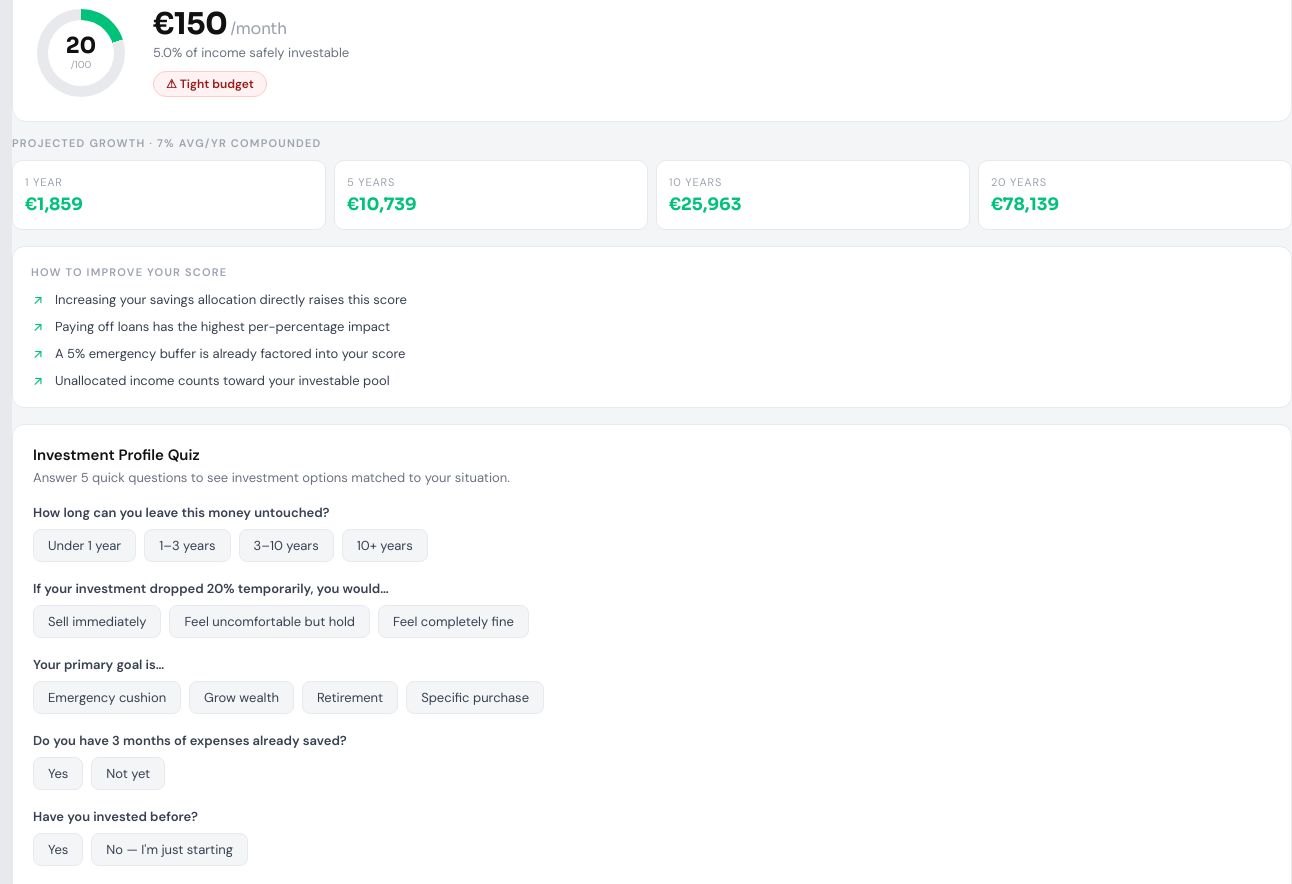
Test: InvestScore — profile quiz › Complete profile button appears only when all 5 questions answered
Check: the text "Complete profile →" is not shown
What coordinates should you click on to do the following:
click the button "Under 1 year"
I would click on:
 (85, 546)
Its box is [33, 529, 136, 562].
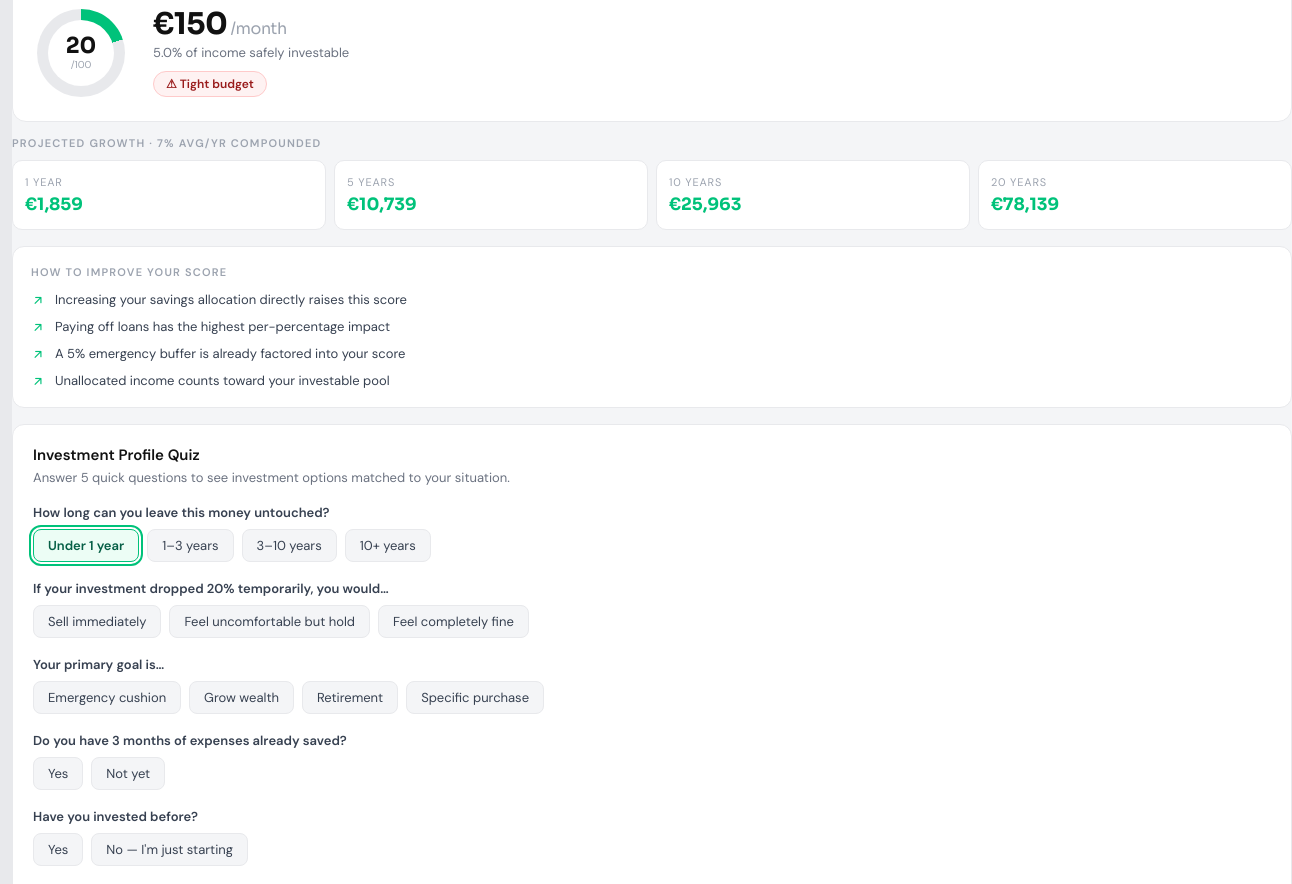
What coordinates should you click on to do the following:
click the button "Sell immediately"
I would click on:
 (97, 622)
Its box is [33, 605, 161, 638].
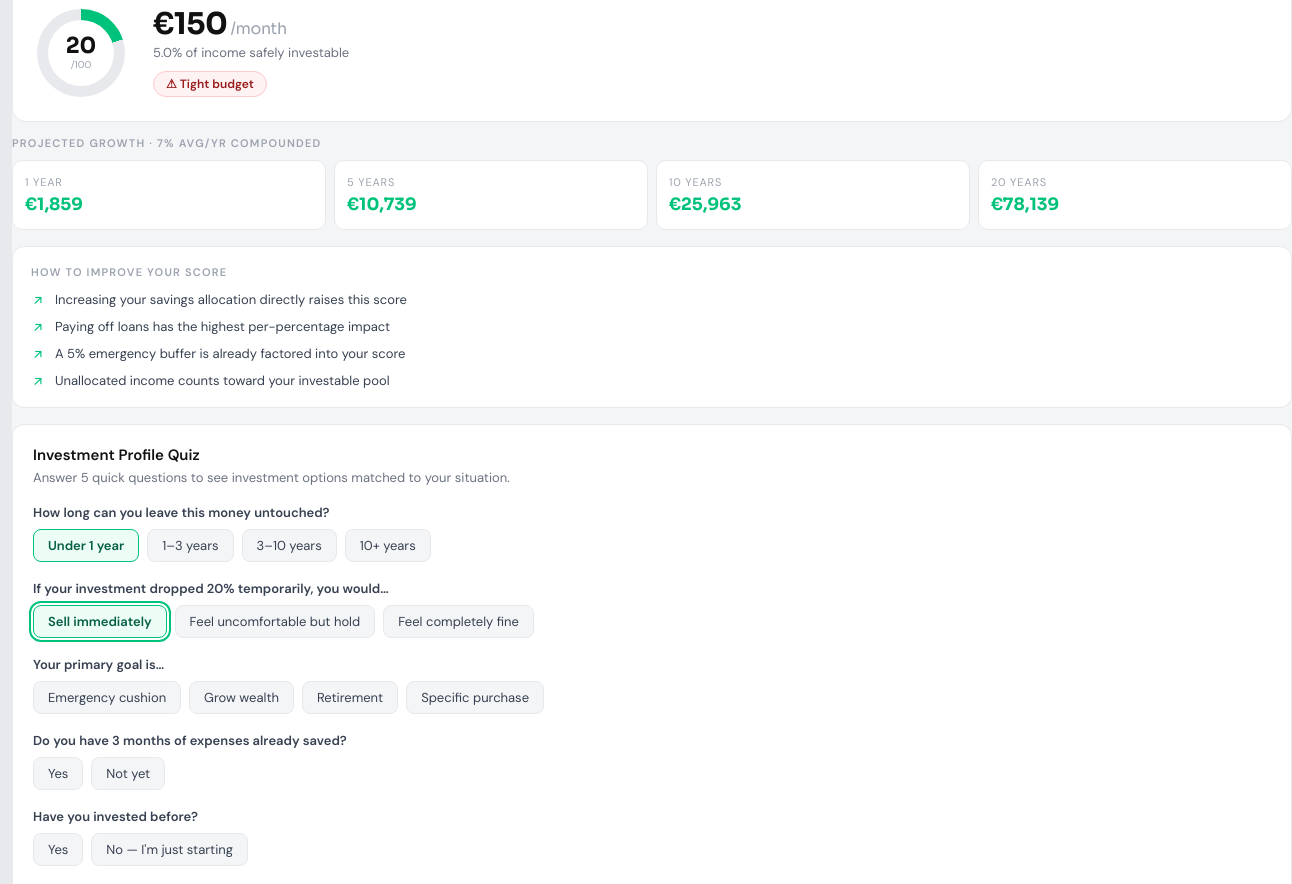
What coordinates should you click on to do the following:
click the button "Emergency cushion"
I would click on:
 (107, 698)
Its box is [33, 681, 181, 714].
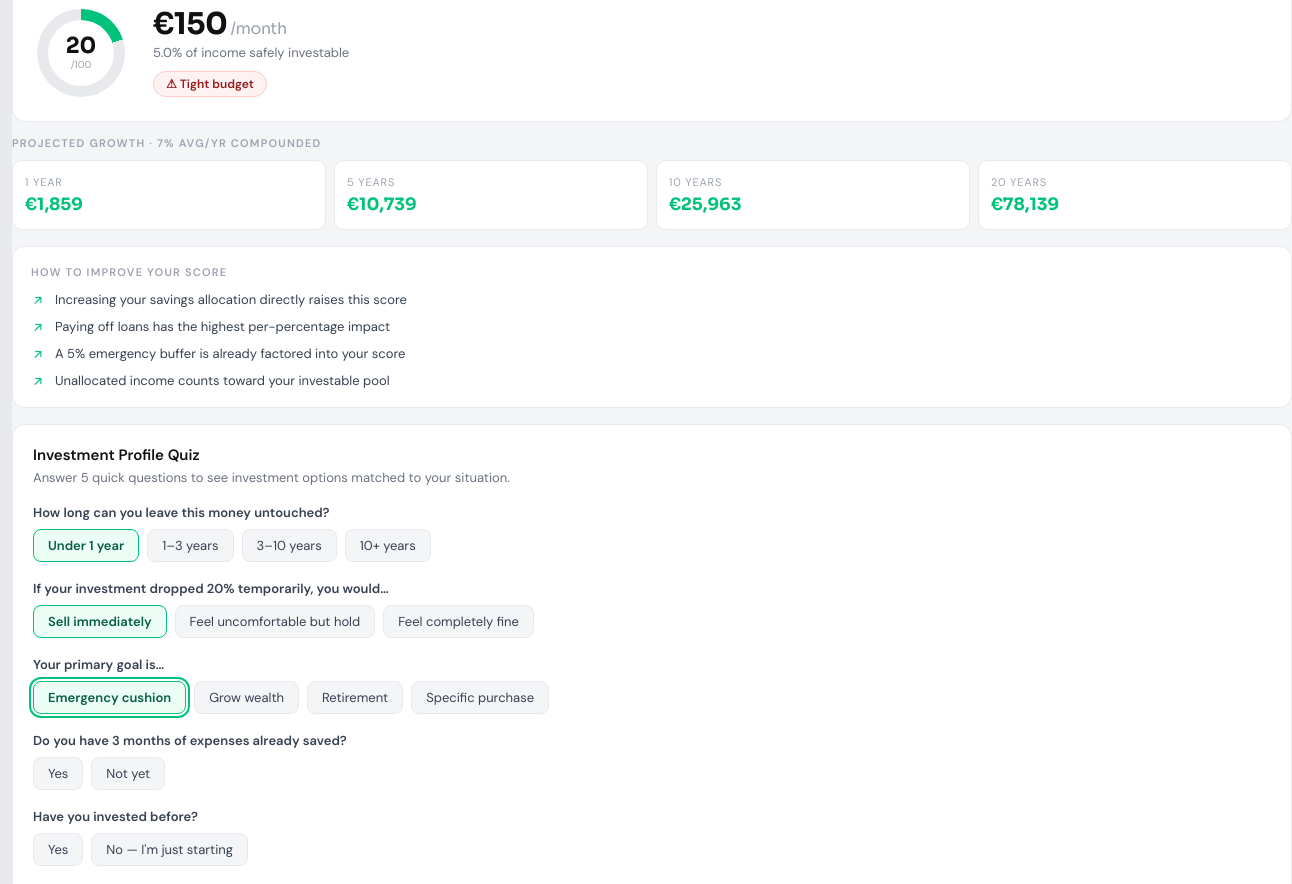
What coordinates should you click on to do the following:
click the button "Not yet"
I would click on:
 (128, 774)
Its box is [91, 757, 165, 790].
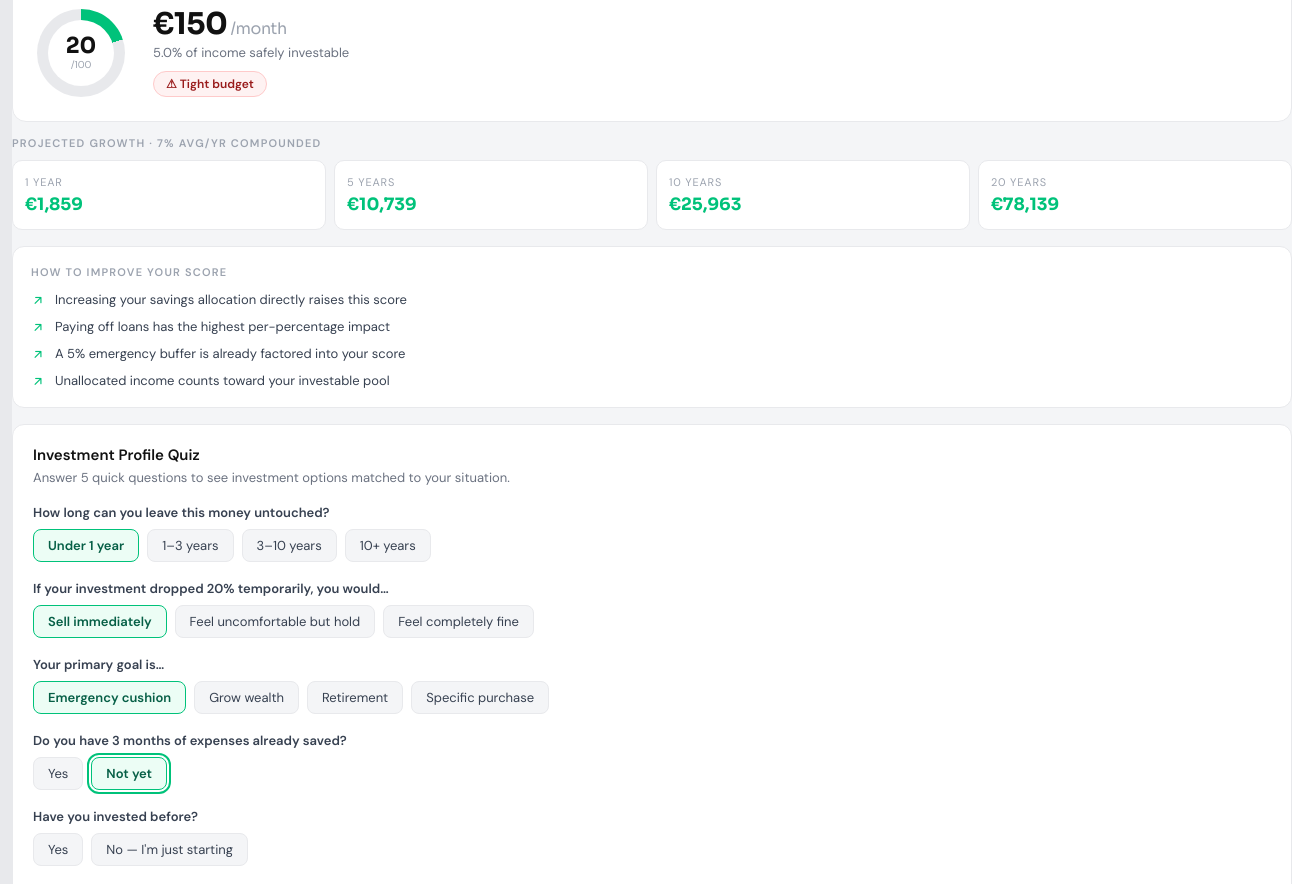
What coordinates should you click on to do the following:
click the button "No — I'm just starting"
I would click on:
 (170, 850)
Its box is [91, 833, 248, 866].
(page scrolled)
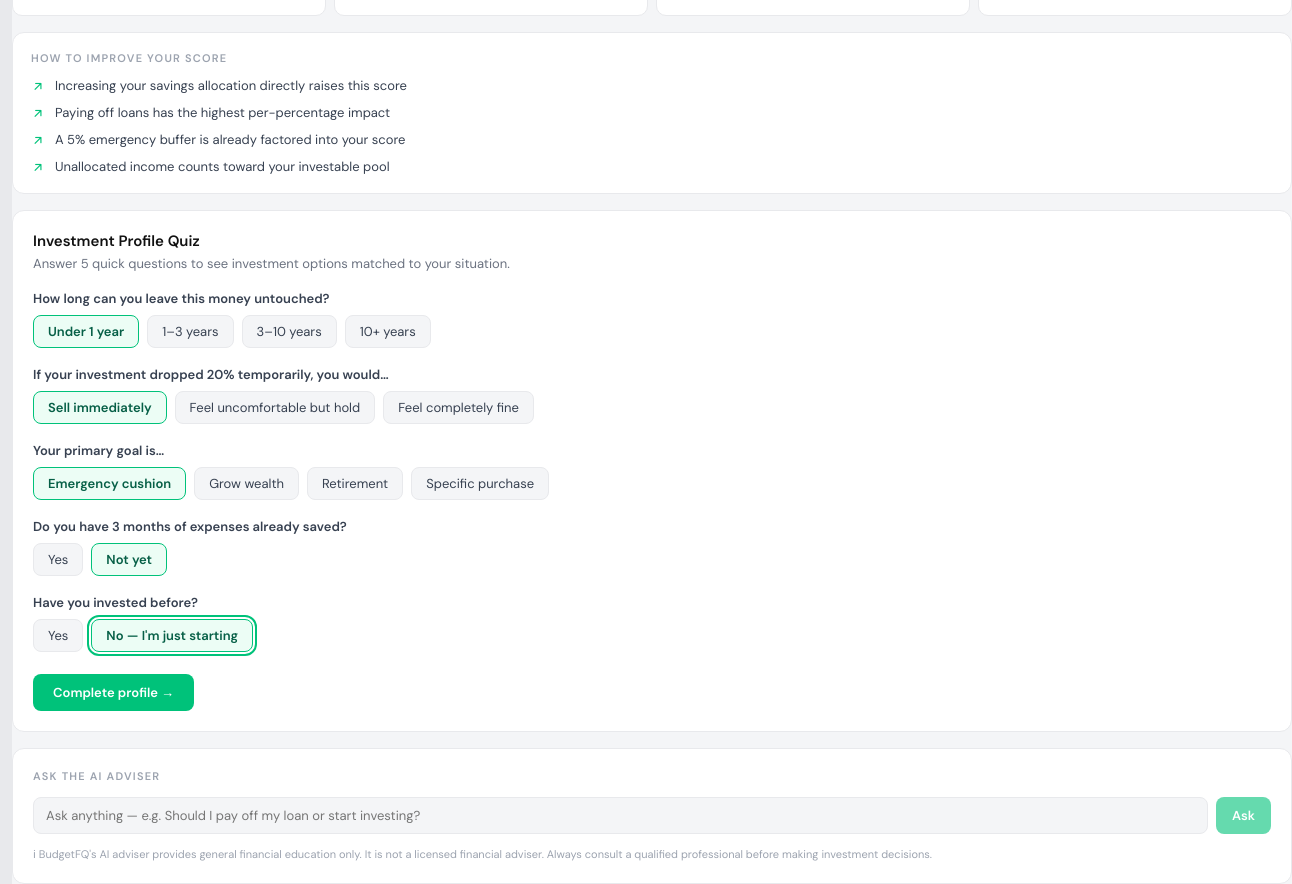
Check: the button "Complete profile →" is shown, box [33, 674, 194, 711]
